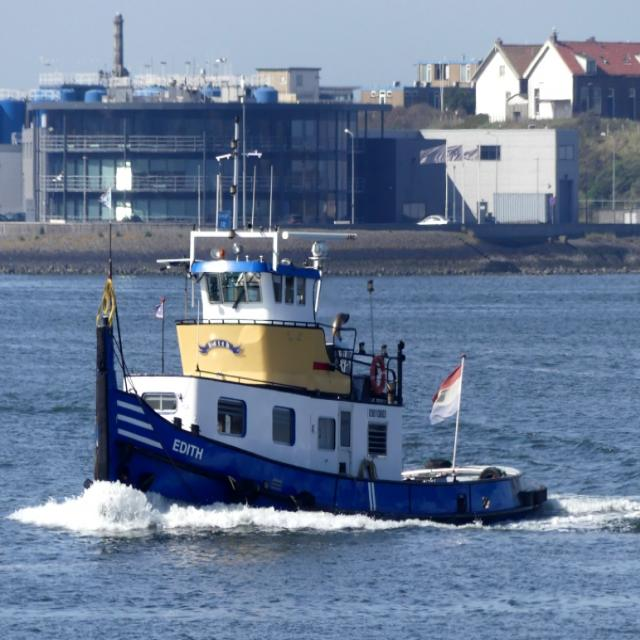tugboat: (92, 226, 561, 534)
